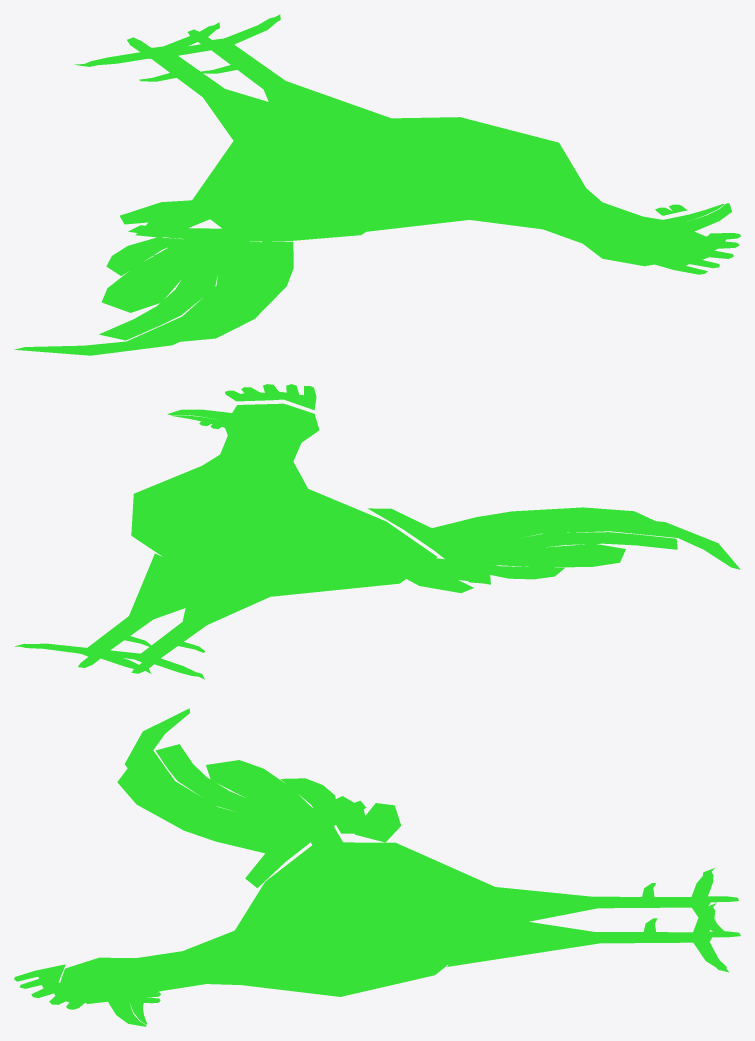
Rendered from Rooster.obj.
3 views of the same model, one above another, from view 1: azimuth 30°, elevation 25°; view 2: azimuth 150°, elevation 25°; view 3: azimuth 270°, elevation 25° (orthographic). The views are drawn at different scales.
Visible parts, largest first — view 1: Rooster; view 2: Rooster; view 3: Rooster.
Boxes of the visible parts, x1=… form: Rooster: x1=14, y1=14, x2=740, y2=355; Rooster: x1=15, y1=384, x2=740, y2=679; Rooster: x1=14, y1=708, x2=740, y2=1026.
Size of the model in its own units: 1 by 0.0261 by 0.9794.
